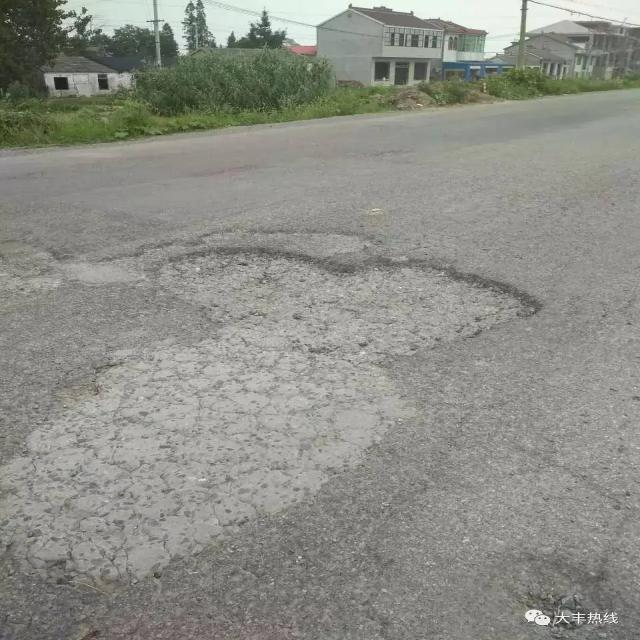Pothole: (132, 248, 567, 364)
